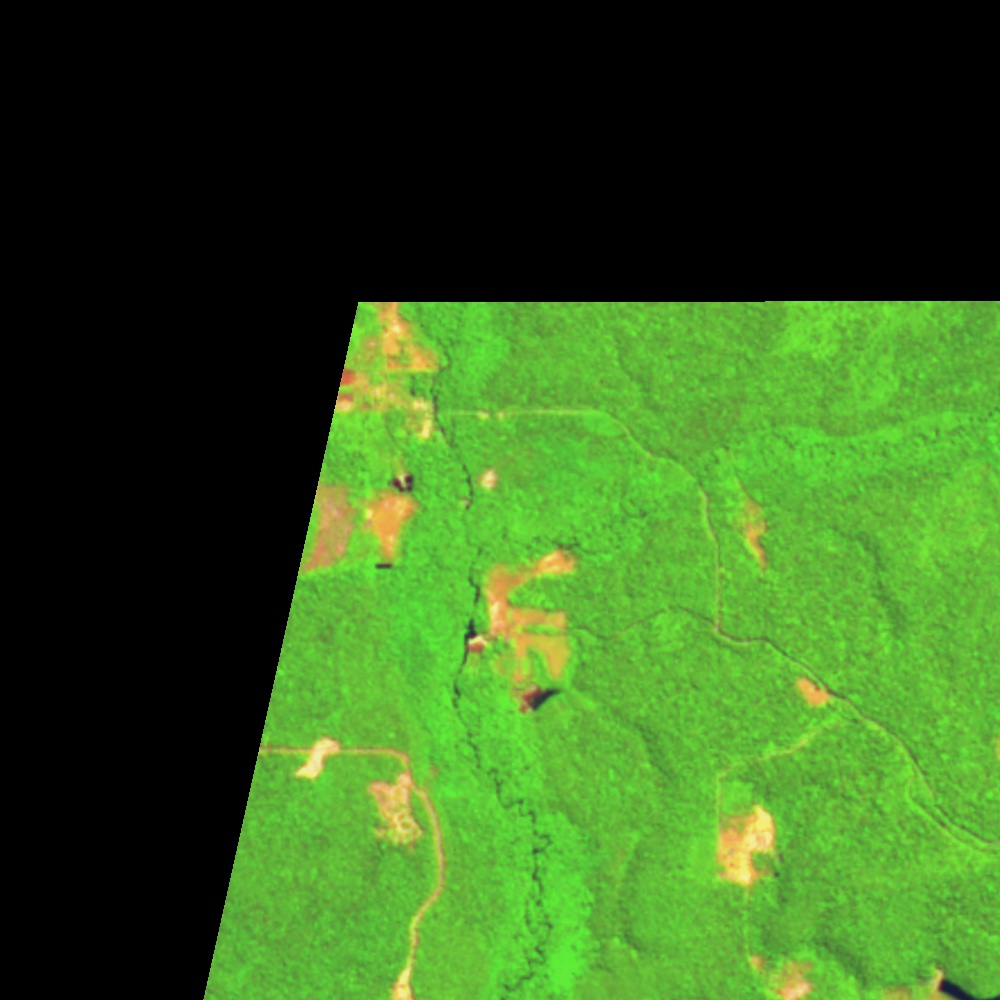legal: (445, 541, 585, 717), (334, 300, 447, 449), (279, 466, 421, 579), (702, 797, 786, 896), (372, 773, 433, 853), (887, 965, 1000, 1000), (747, 945, 816, 1000), (736, 482, 775, 573), (295, 733, 341, 783), (455, 464, 501, 504), (801, 677, 831, 708)
